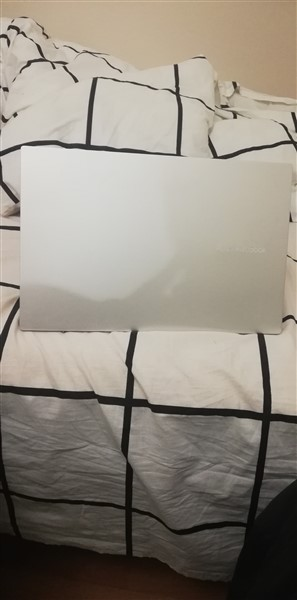laptop: (15, 140, 297, 338)
